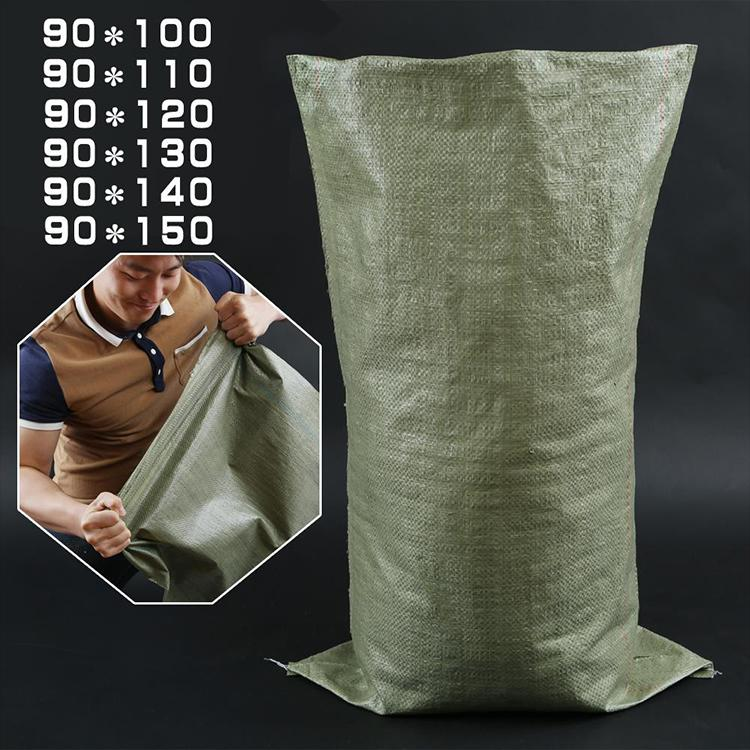塑料袋: (288, 46, 714, 713)
